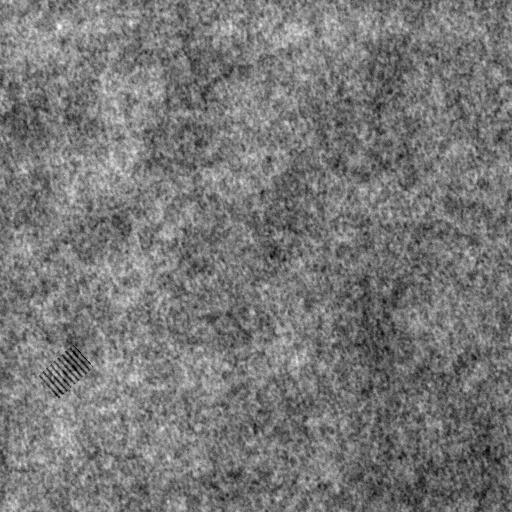DefectTypeB: (38, 345, 97, 393)
